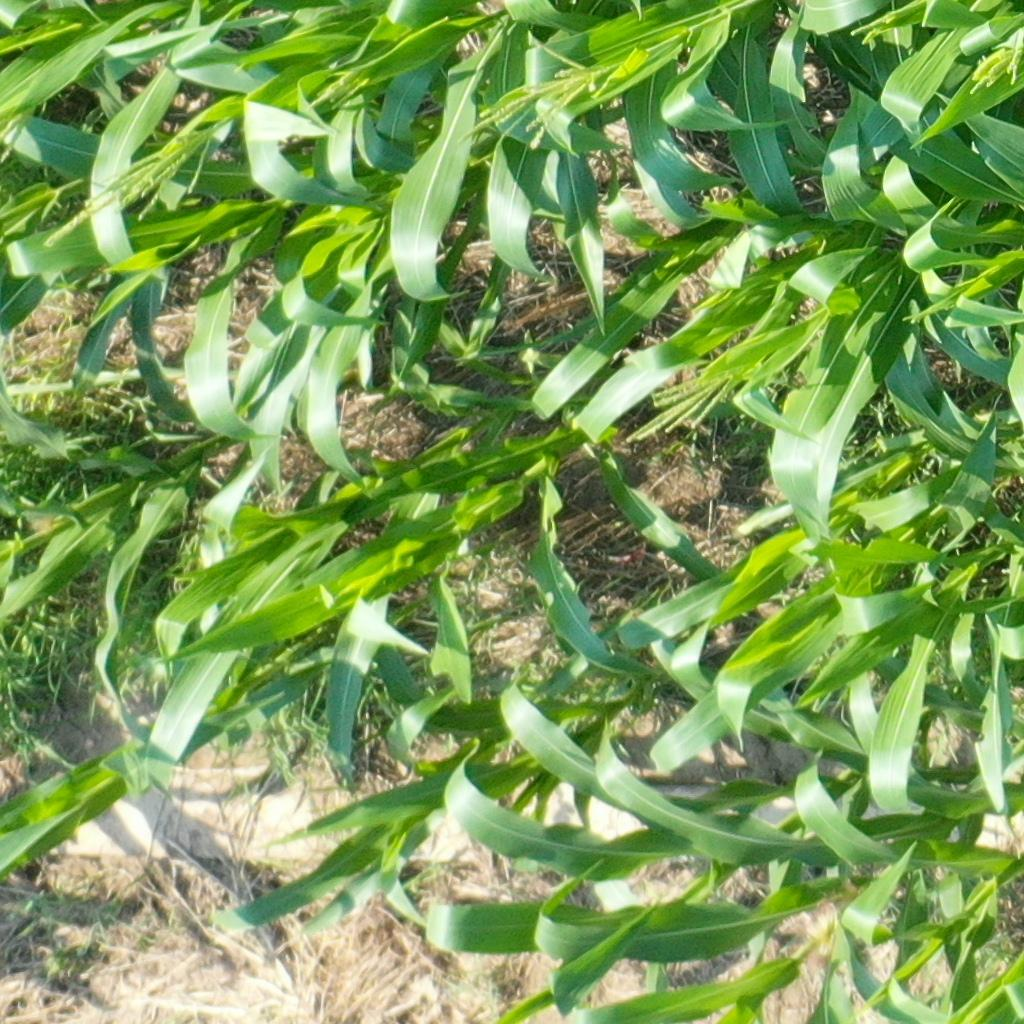Tassel: (41, 119, 231, 249), (452, 32, 612, 153), (619, 365, 742, 443), (971, 32, 1022, 91), (304, 68, 365, 113), (848, 13, 901, 46), (1, 107, 28, 165)
